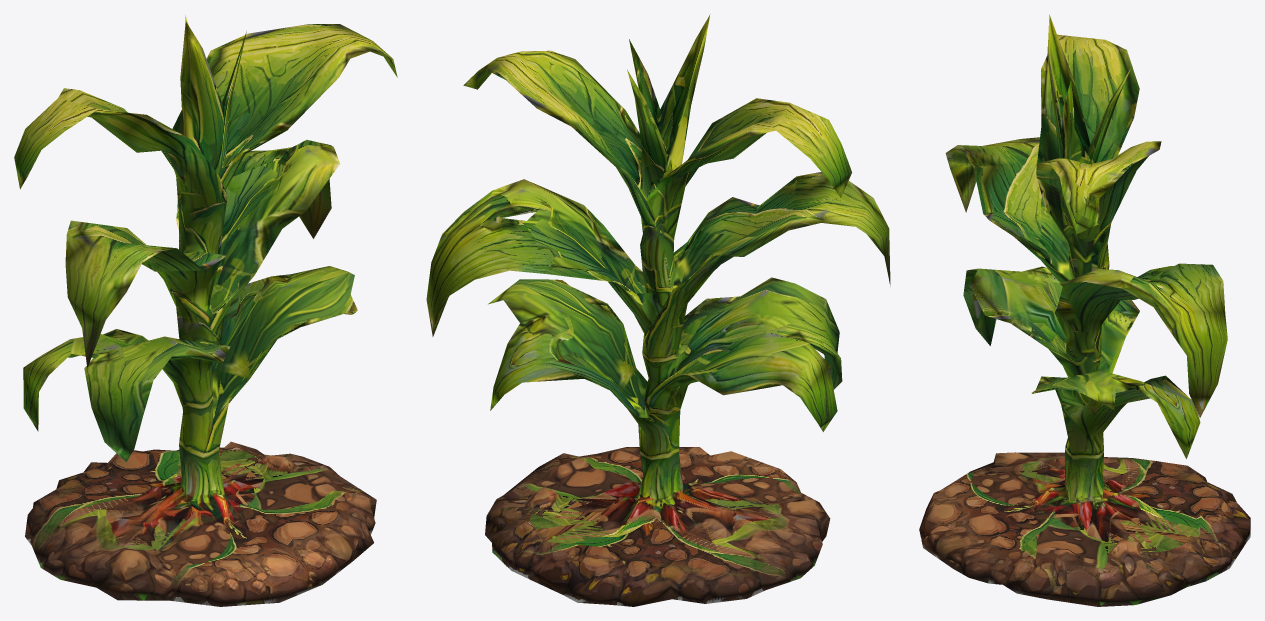
The model's file is Crop_Corn_Growing.fbx.
The picture shows the model from 3 angles, left to right: view 1: azimuth 30°, elevation 25°; view 2: azimuth 150°, elevation 25°; view 3: azimuth 270°, elevation 25°; orthographic projection. The views are drawn at different scales.
Visible parts, largest first — view 1: texture_mapping; view 2: texture_mapping; view 3: texture_mapping.
Boxes of the visible parts, x1=… form: texture_mapping: x1=14, y1=14, x2=397, y2=606; texture_mapping: x1=426, y1=14, x2=890, y2=606; texture_mapping: x1=919, y1=14, x2=1250, y2=606.
Bounding box in the file's own units: 0.7125 × 0.5676 × 0.9615.
Materials: 1 (1 with a texture image).
